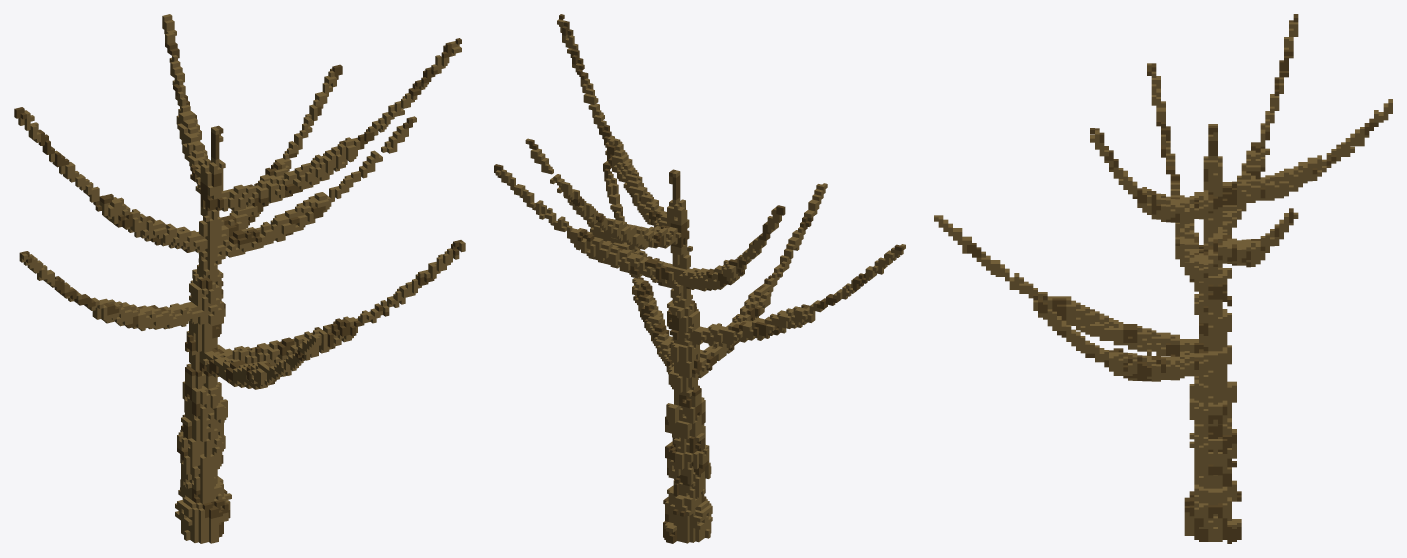
Rendered from tree_dunes_1.obj.
3 renders of one model, left to right at view 1: azimuth 30°, elevation 25°; view 2: azimuth 150°, elevation 25°; view 3: azimuth 270°, elevation 25°, orthographic. The views are drawn at different scales.
Bounding box in the file's own units: 2.6 × 2.95 × 2.42.
1 material, 1 textured.
